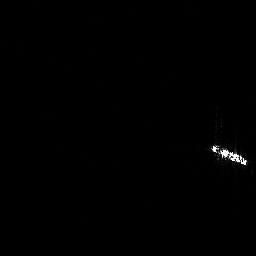ship: (205, 140, 251, 169)
